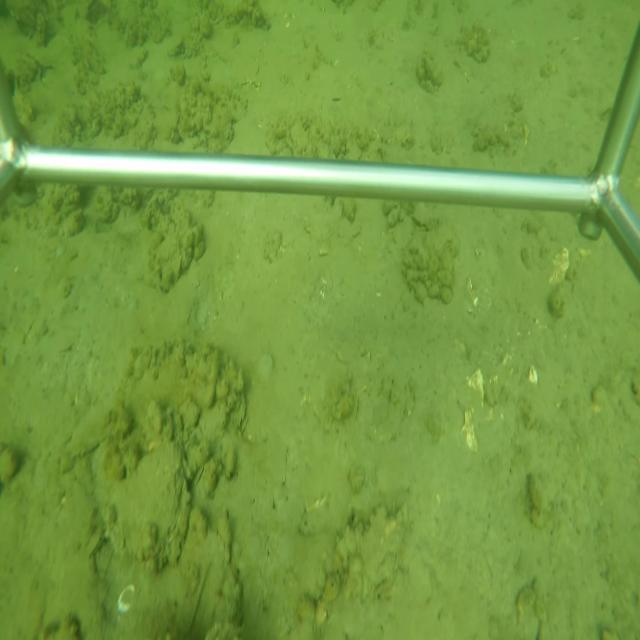Oyster-Closed: (93, 428, 188, 569)
Oyster-Indeterminate: (151, 219, 184, 294)
Oyster-Open: (407, 208, 430, 234)
